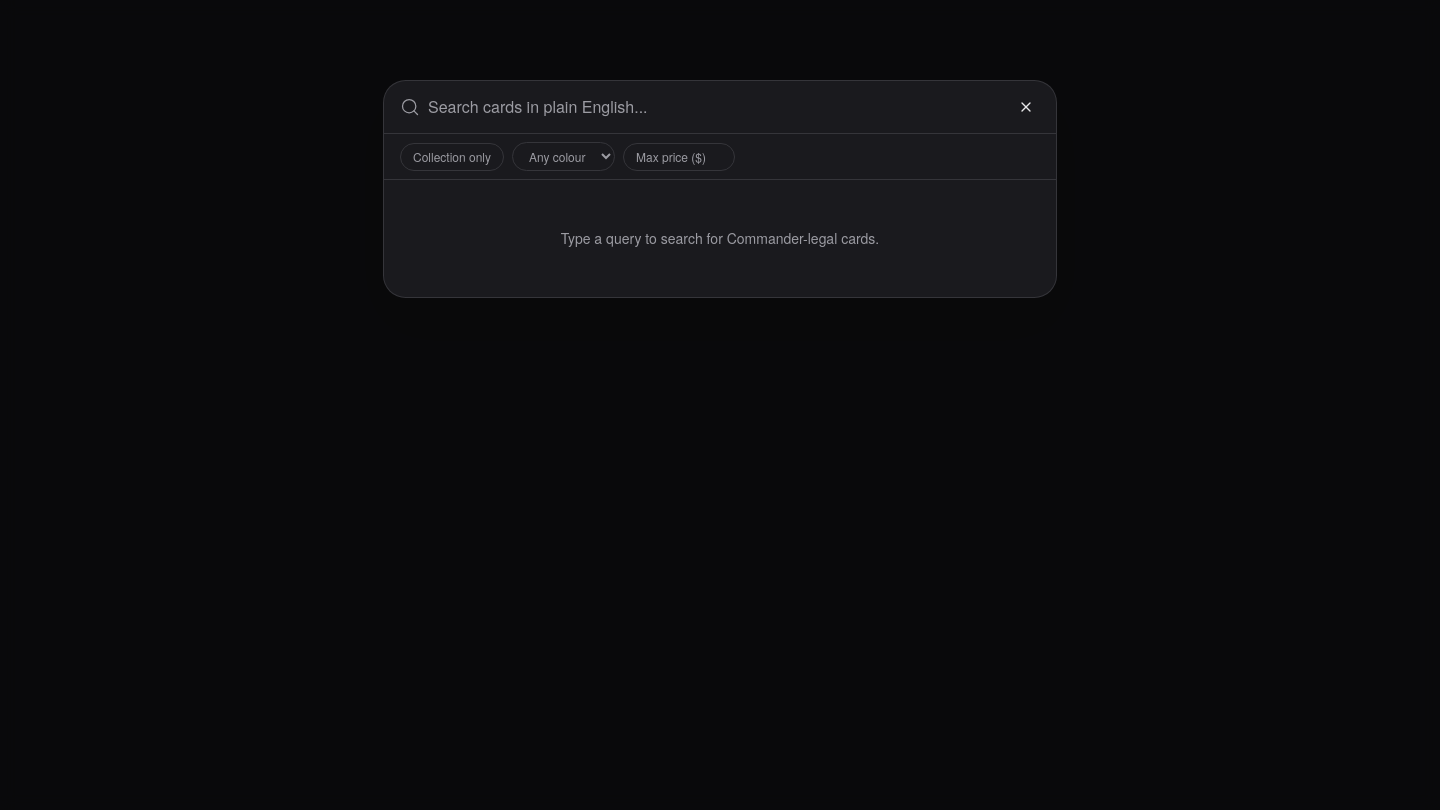
SmartSearch › shows "In deck" badge for cards in current deck
The width and height of the screenshot is (1440, 810).
In the field with placeholder "Search cards in plain English...": (716, 107) 428,95 -> 1004,119, type "mana"
Wait 300 ms
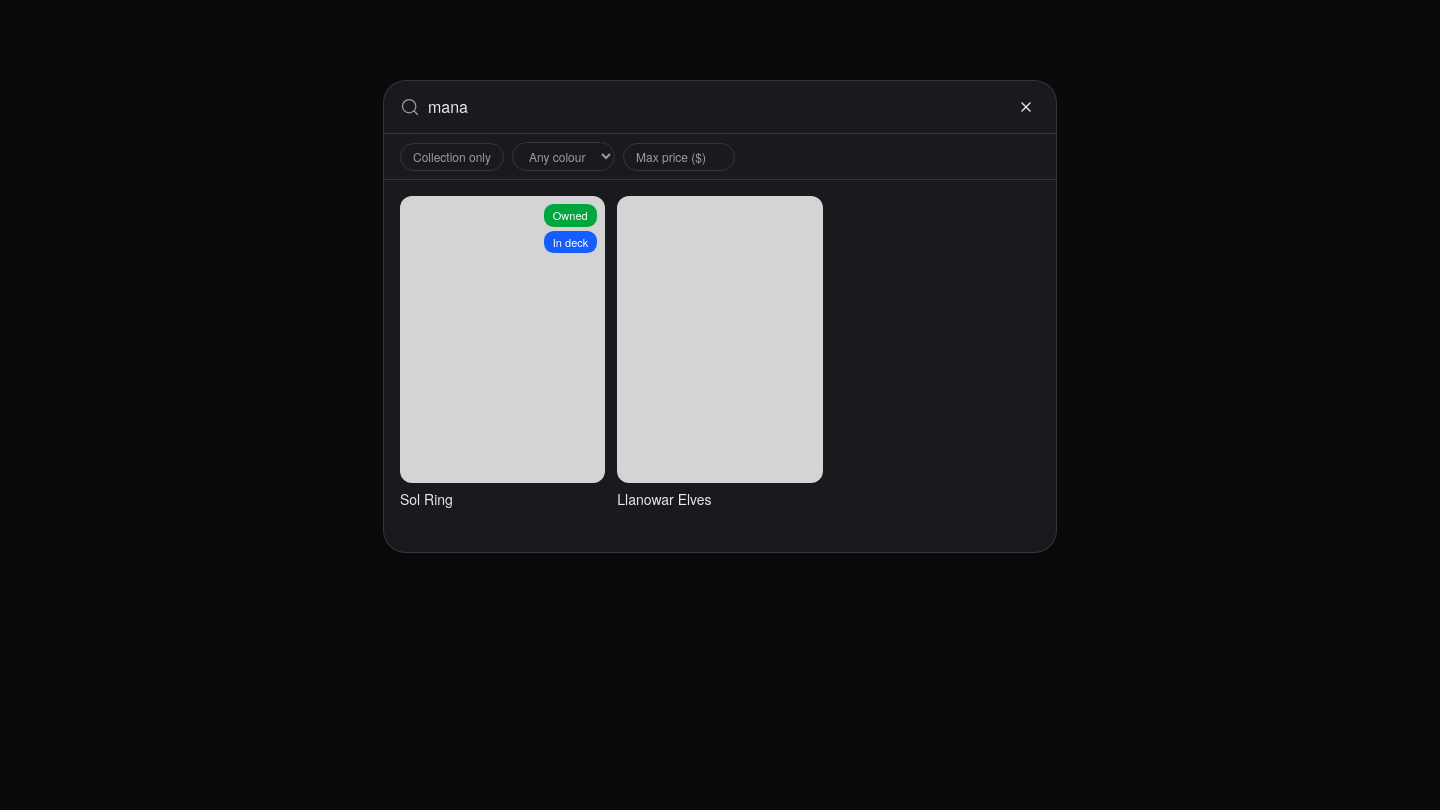
Now the text "In deck" is shown, box 544,230 -> 597,253
